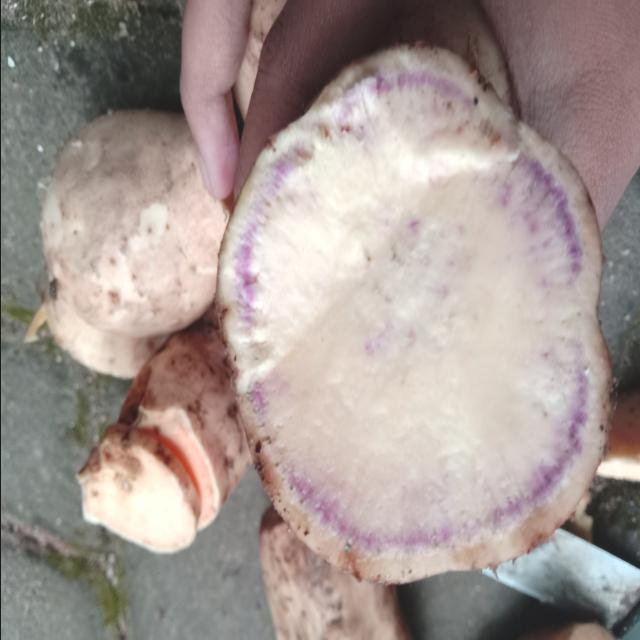Healthy Sweet Potato: (216, 47, 611, 583)
